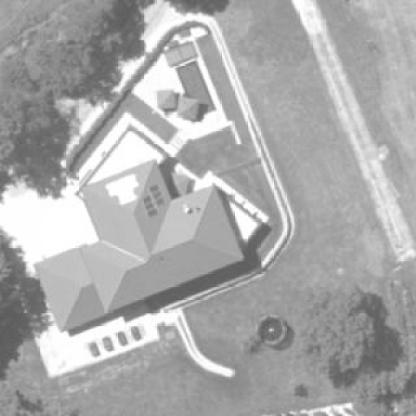solar-pv-panel: (107, 175, 139, 204), (141, 184, 165, 218)
